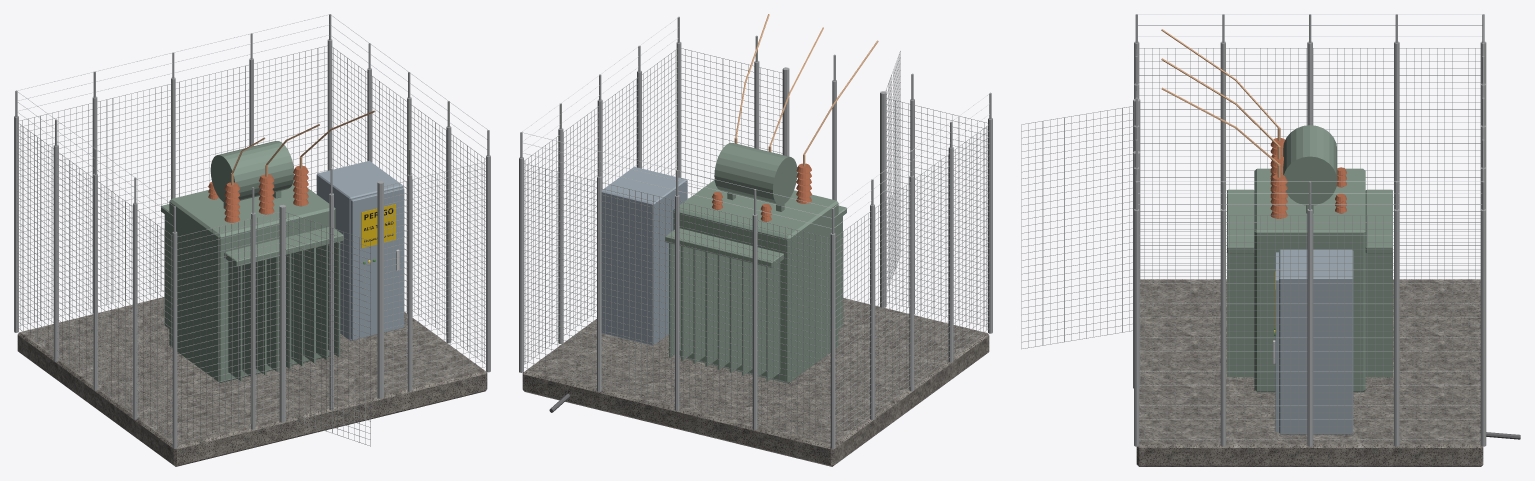
The model's file is subestacao.glb.
3 views of the same model, side by side, from view 1: azimuth 30°, elevation 25°; view 2: azimuth 150°, elevation 25°; view 3: azimuth 270°, elevation 25° (orthographic). The views are drawn at different scales.
Parts seen in each view (by area): view 1: subestacao_galvanizado, subestacao_concreto, subestacao_transformador, subestacao_aco_pintado, subestacao_aco, subestacao_isolador, subestacao_placa_perigo, subestacao_cobre; view 2: subestacao_galvanizado, subestacao_concreto, subestacao_transformador, subestacao_aco_pintado, subestacao_aco, subestacao_cobre, subestacao_isolador; view 3: subestacao_galvanizado, subestacao_concreto, subestacao_transformador, subestacao_aco_pintado, subestacao_aco, subestacao_isolador, subestacao_cobre.
Boxes of the visible parts, x1,y1,x2,y2 form: subestacao_galvanizado: [14, 14, 490, 448]; subestacao_concreto: [17, 297, 487, 466]; subestacao_transformador: [161, 141, 343, 382]; subestacao_aco_pintado: [316, 160, 404, 340]; subestacao_aco: [16, 14, 487, 270]; subestacao_isolador: [208, 165, 308, 222]; subestacao_placa_perigo: [361, 204, 395, 248]; subestacao_cobre: [231, 110, 375, 185]; subestacao_galvanizado: [519, 16, 992, 448]; subestacao_concreto: [522, 298, 989, 466]; subestacao_transformador: [665, 142, 846, 383]; subestacao_aco_pintado: [601, 166, 687, 345]; subestacao_aco: [521, 17, 990, 228]; subestacao_cobre: [734, 14, 878, 166]; subestacao_isolador: [712, 163, 811, 221]; subestacao_galvanizado: [1021, 14, 1486, 446]; subestacao_concreto: [1136, 279, 1483, 466]; subestacao_transformador: [1227, 125, 1392, 392]; subestacao_aco_pintado: [1275, 249, 1353, 434]; subestacao_aco: [1137, 14, 1483, 363]; subestacao_isolador: [1270, 138, 1346, 218]; subestacao_cobre: [1161, 29, 1280, 177].
Size of the model in its own units: 3.24 by 2.91 by 4.04.
11 materials, 2 textured.
